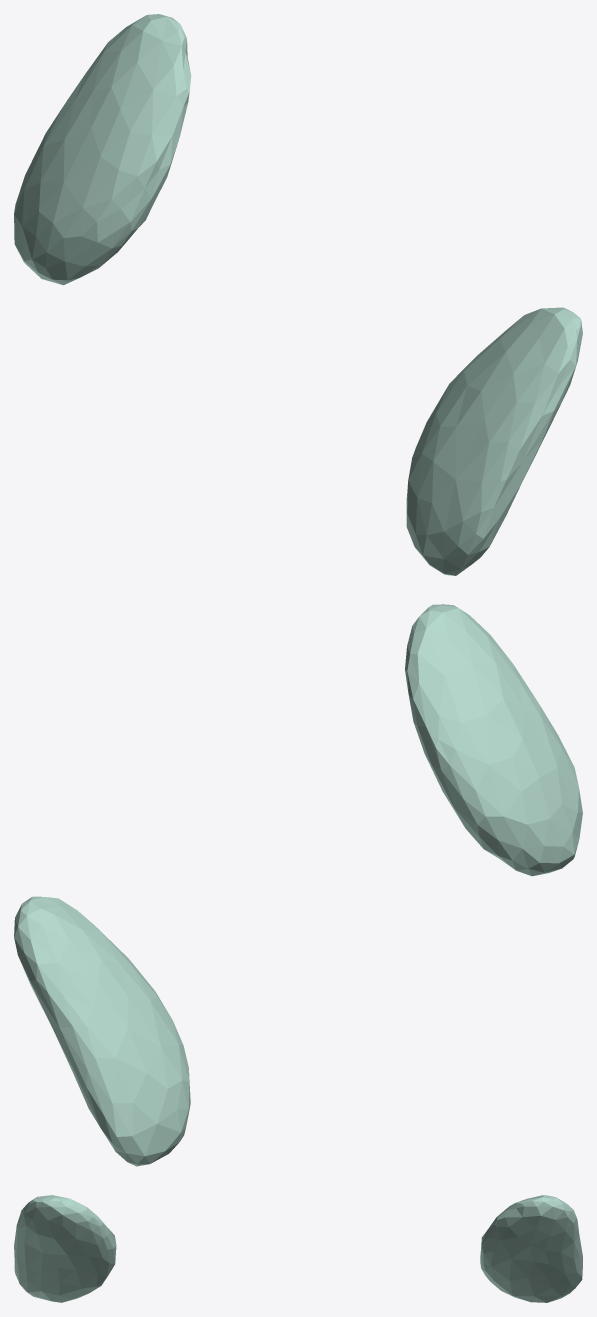
3 renders of one model, top to bottom at view 1: azimuth 30°, elevation 25°; view 2: azimuth 150°, elevation 25°; view 3: azimuth 270°, elevation 25°, orthographic. The views are drawn at different scales.
Visible parts, largest first — view 1: 188.obj; view 2: 188.obj; view 3: 188.obj.
Boxes of the visible parts, x1,y1,x2,y2 form: 188.obj: [14, 14, 582, 575]; 188.obj: [14, 604, 582, 1166]; 188.obj: [14, 1195, 582, 1302].
Size of the model in its own units: 526 by 742 by 2721.
